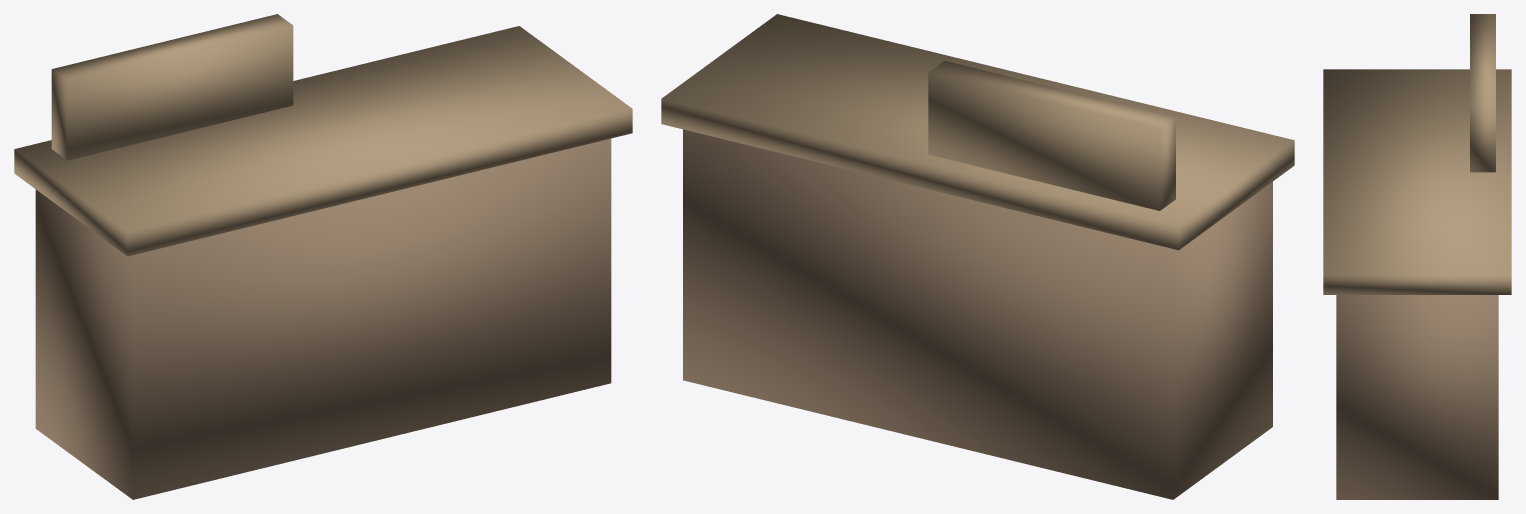
File: reception_desk__compact.glb
3 renders of one model, left to right at view 1: azimuth 30°, elevation 25°; view 2: azimuth 150°, elevation 25°; view 3: azimuth 270°, elevation 25°, orthographic. The views are drawn at different scales.
Parts seen in each view (by area): view 1: world; view 2: world; view 3: world.
Boxes of the visible parts, <box> form: world: <box>14,14,632,499</box>; world: <box>661,14,1294,499</box>; world: <box>1323,14,1511,499</box>.
Size of the model in its own units: 1.6 by 1.08 by 0.6192.
